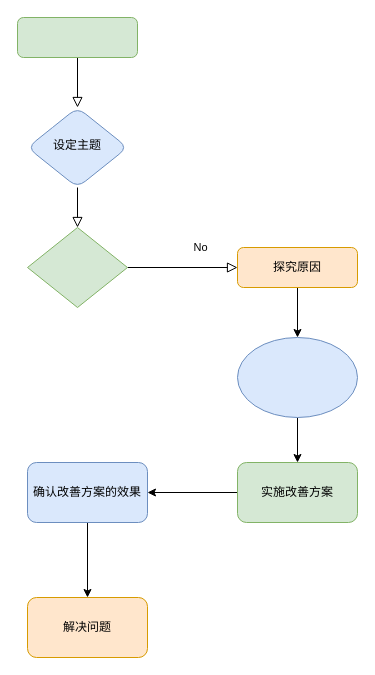
The diagram is 375 pixels wide and 675 high, and some of its shapes have lost their labels. The centre of each missing label's shape, as x and y in pixels:
"分析现状" goes at point 77,267.
"发现问题" goes at point 77,37.
"确立改善方案" goes at point 297,377.
